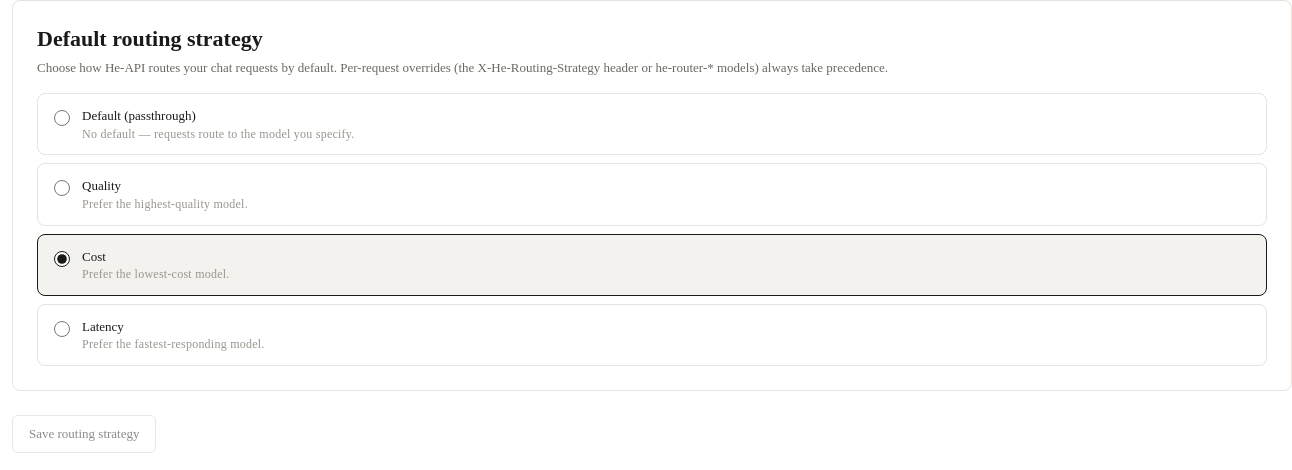
Test case: AC1: RoutingStrategyForm — select + persist › 6.5-UNIT-003: dirty detection — Save disabled until selection differs
Expected: the button "Save routing strategy" is disabled, top-left (12, 415), bottom-right (156, 453)
Click the radio button labelled "Cost Prefer the lowest-cost model." at {"x": 62, "y": 259}, box top-left (54, 251), bottom-right (70, 267)
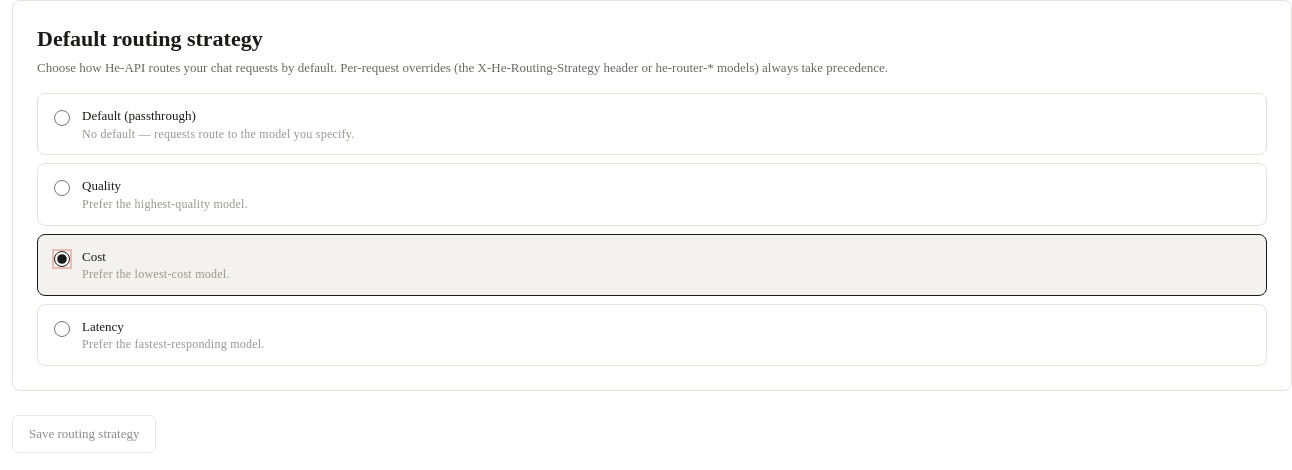
Expected: the button "Save routing strategy" is disabled, top-left (12, 415), bottom-right (156, 453)
Click the radio button labelled "Quality Prefer the highest-quality model." at {"x": 62, "y": 188}, box top-left (54, 180), bottom-right (70, 196)
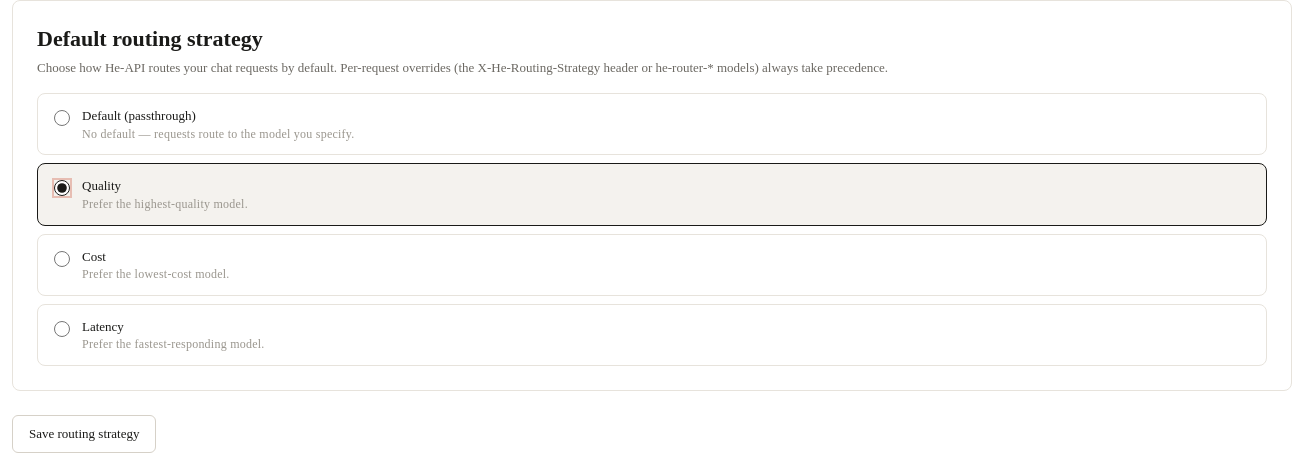
Now the button "Save routing strategy" is enabled, box top-left (12, 415), bottom-right (156, 453)
